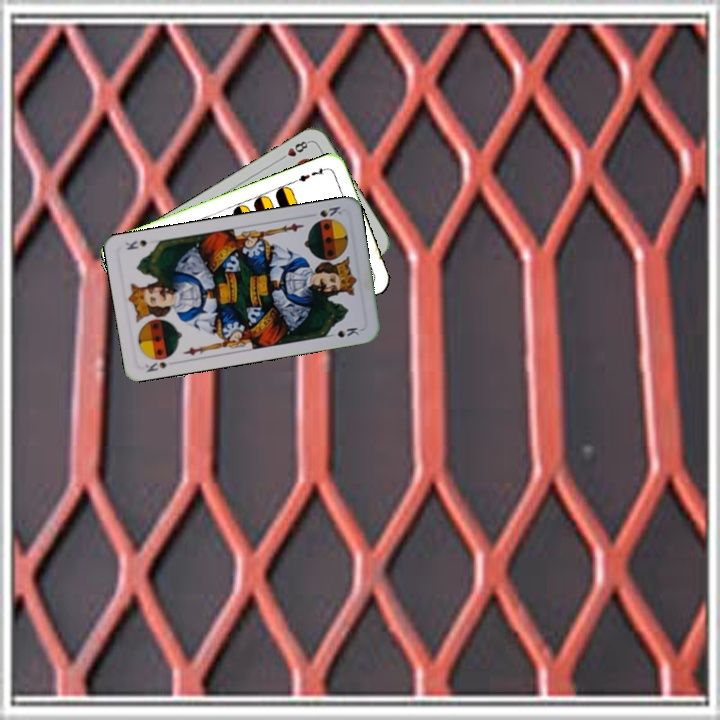E7: (291, 164, 330, 185)
H8: (275, 137, 312, 163)
SK: (142, 351, 176, 375), (316, 202, 344, 220)
